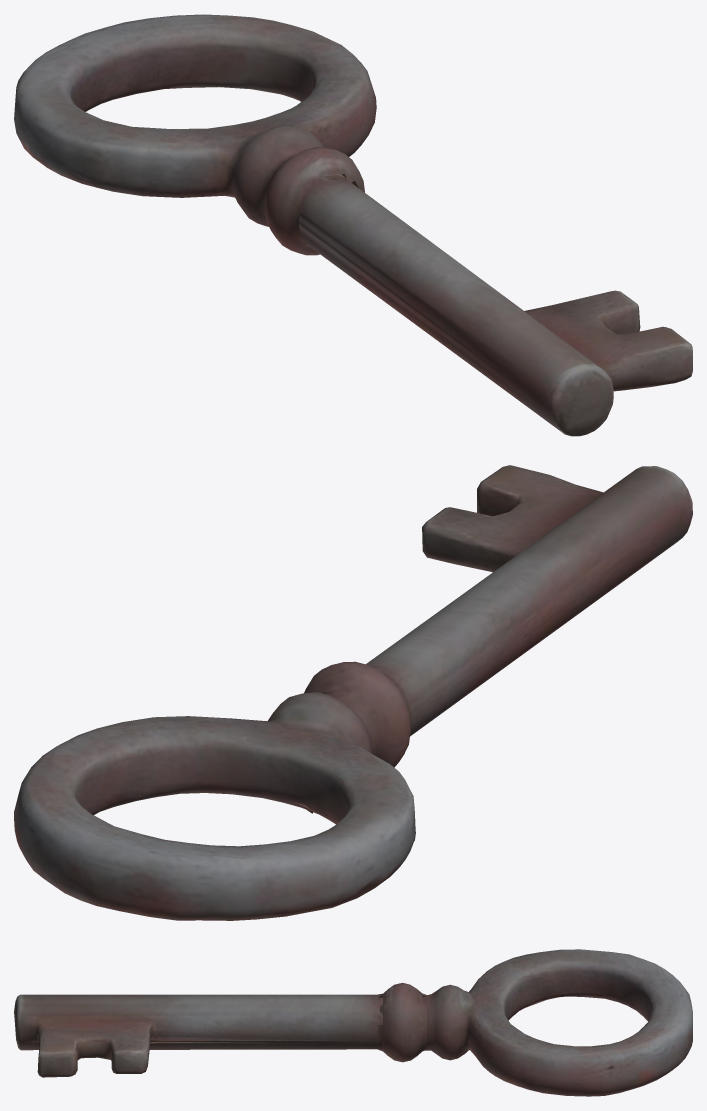
3 renders of one model, top to bottom at view 1: azimuth 30°, elevation 25°; view 2: azimuth 150°, elevation 25°; view 3: azimuth 270°, elevation 25°, orthographic. The views are drawn at different scales.
Parts seen in each view (by area): view 1: material; view 2: material; view 3: material.
Boxes of the visible parts, x1=… form: material: x1=14, y1=14, x2=692, y2=436; material: x1=14, y1=465, x2=692, y2=920; material: x1=14, y1=949, x2=692, y2=1096.
Bounding box in the file's own units: 0.7342 × 0.2246 × 1.9.
Materials: 1 (1 with a texture image).
